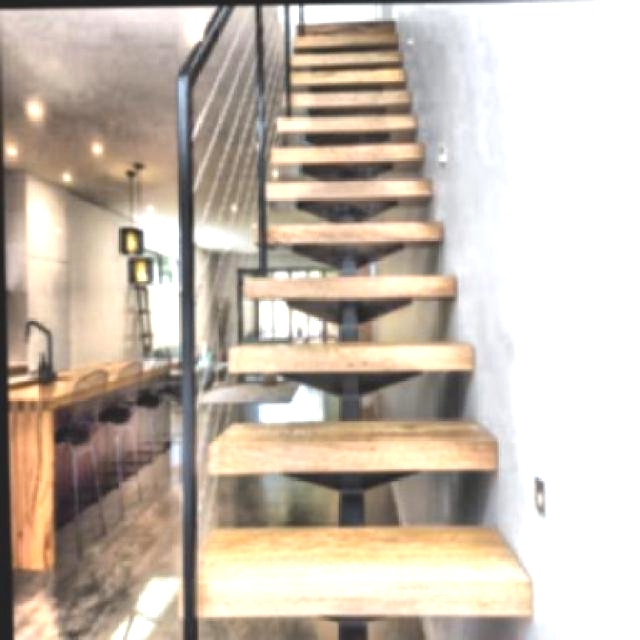stair: (183, 8, 525, 625)
